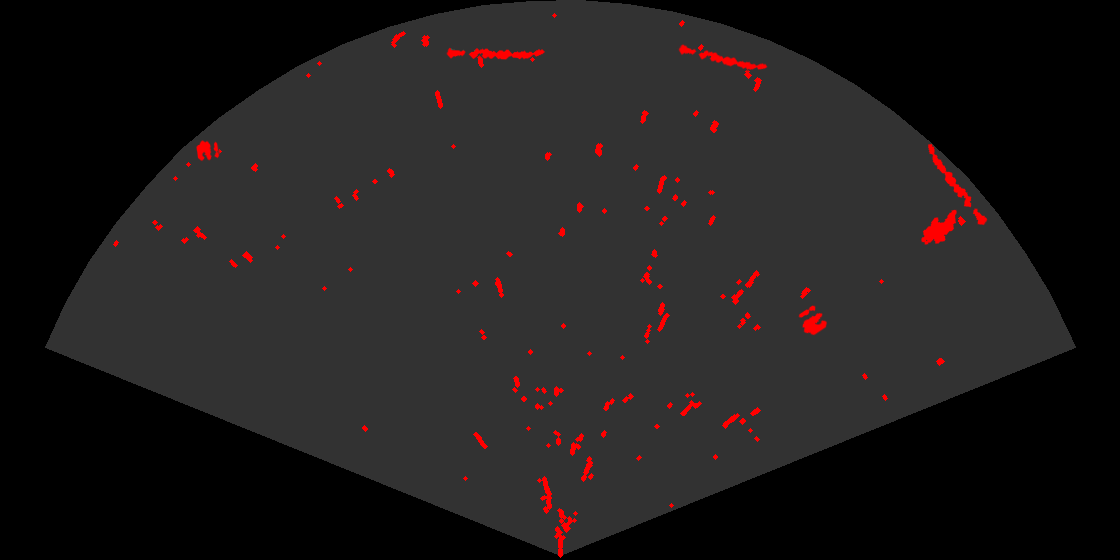AUV: (920, 208, 958, 246)
ball: (797, 304, 829, 337), (195, 139, 221, 163)
chain: (926, 142, 989, 227), (676, 43, 769, 72), (444, 46, 545, 61)
